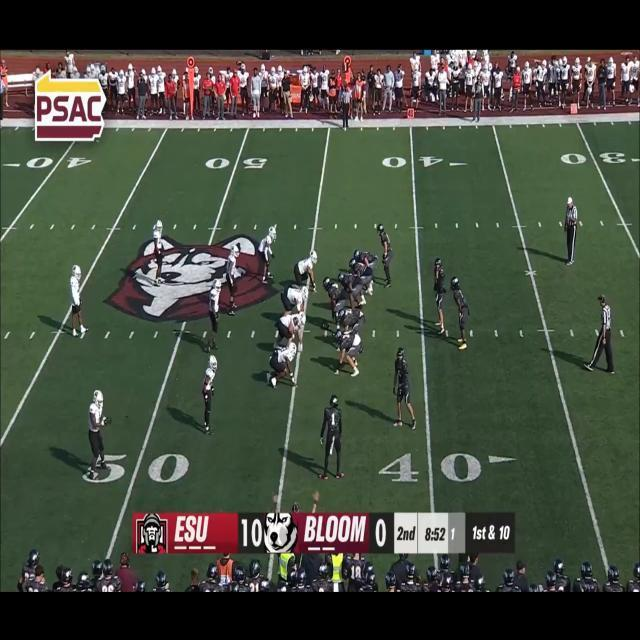football: (320, 320, 330, 330)
